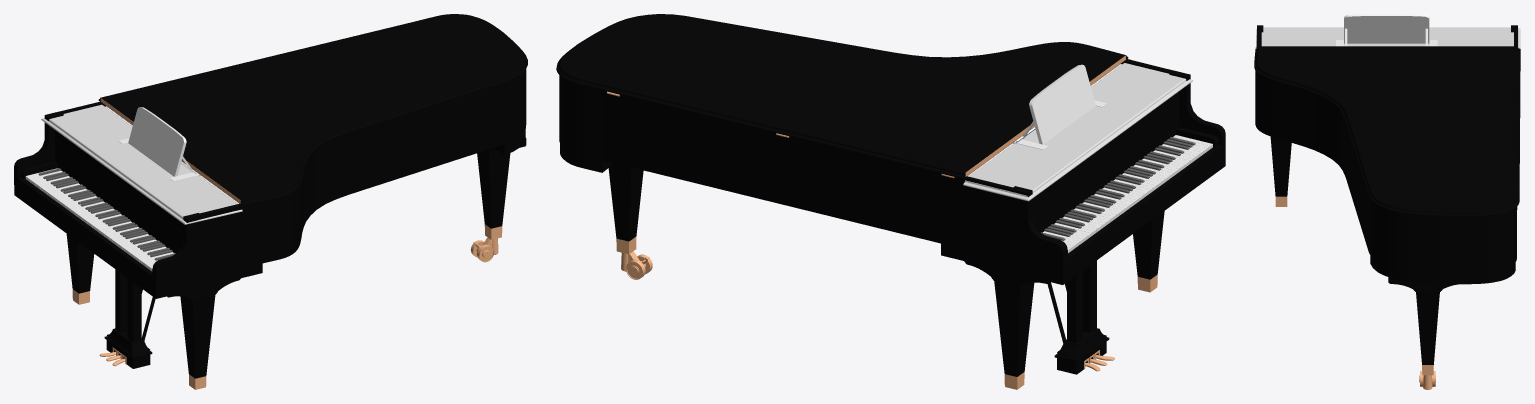
The model's file is grandPiano.glb.
3 views of the same model, side by side, from view 1: azimuth 30°, elevation 25°; view 2: azimuth 150°, elevation 25°; view 3: azimuth 270°, elevation 25° (orthographic). The views are drawn at different scales.
Visible parts, largest first — view 1: PianoBase, PianoLidBack, PianoLidFront, PianoNotesTop, PianoRollBack; view 2: PianoBase, PianoLidBack, PianoLidFront, PianoNotesTop, PianoRollBack; view 3: PianoLidBack, PianoBase, PianoLidFront, PianoNotesTop, PianoRollBack.
Part boxes in pixels (bbox=[...]): PianoBase: bbox=[14, 69, 526, 389]; PianoLidBack: bbox=[98, 14, 527, 205]; PianoLidFront: bbox=[41, 104, 242, 224]; PianoNotesTop: bbox=[128, 107, 196, 176]; PianoRollBack: bbox=[470, 237, 498, 262]; PianoBase: bbox=[559, 59, 1225, 389]; PianoLidBack: bbox=[556, 14, 1128, 178]; PianoLidFront: bbox=[963, 63, 1192, 201]; PianoNotesTop: bbox=[1015, 64, 1095, 144]; PianoRollBack: bbox=[621, 251, 652, 279]; PianoLidBack: bbox=[1254, 46, 1520, 216]; PianoBase: bbox=[1255, 25, 1517, 375]; PianoLidFront: bbox=[1255, 27, 1520, 48]; PianoNotesTop: bbox=[1344, 14, 1429, 46]; PianoRollBack: bbox=[1419, 371, 1435, 389].
Bounding box in the file's own units: 1.01 × 0.5024 × 0.5558.
